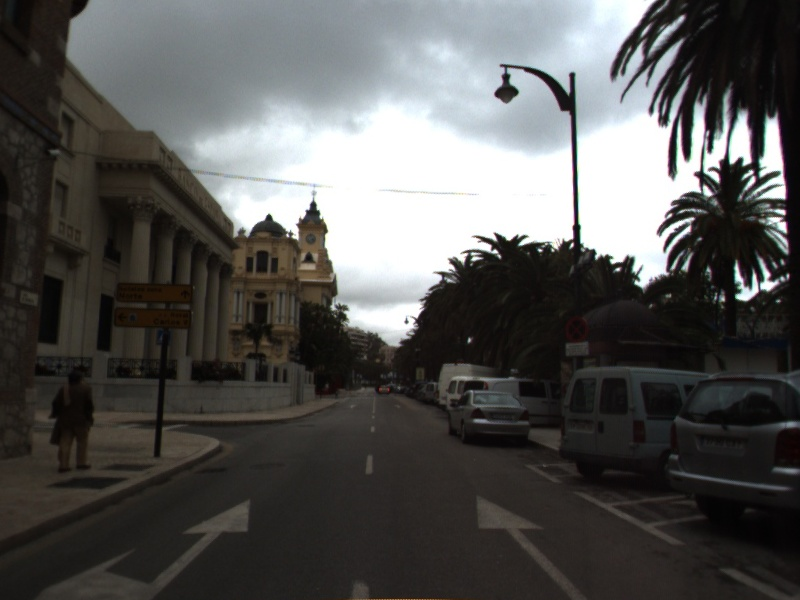STRAIGHT: (473, 489, 592, 600)
STRAIGHT_LEFT: (35, 493, 254, 600)
